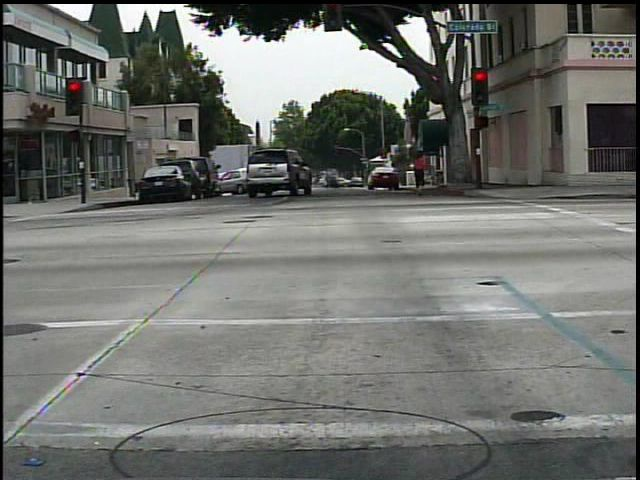person: (406, 149, 434, 197)
